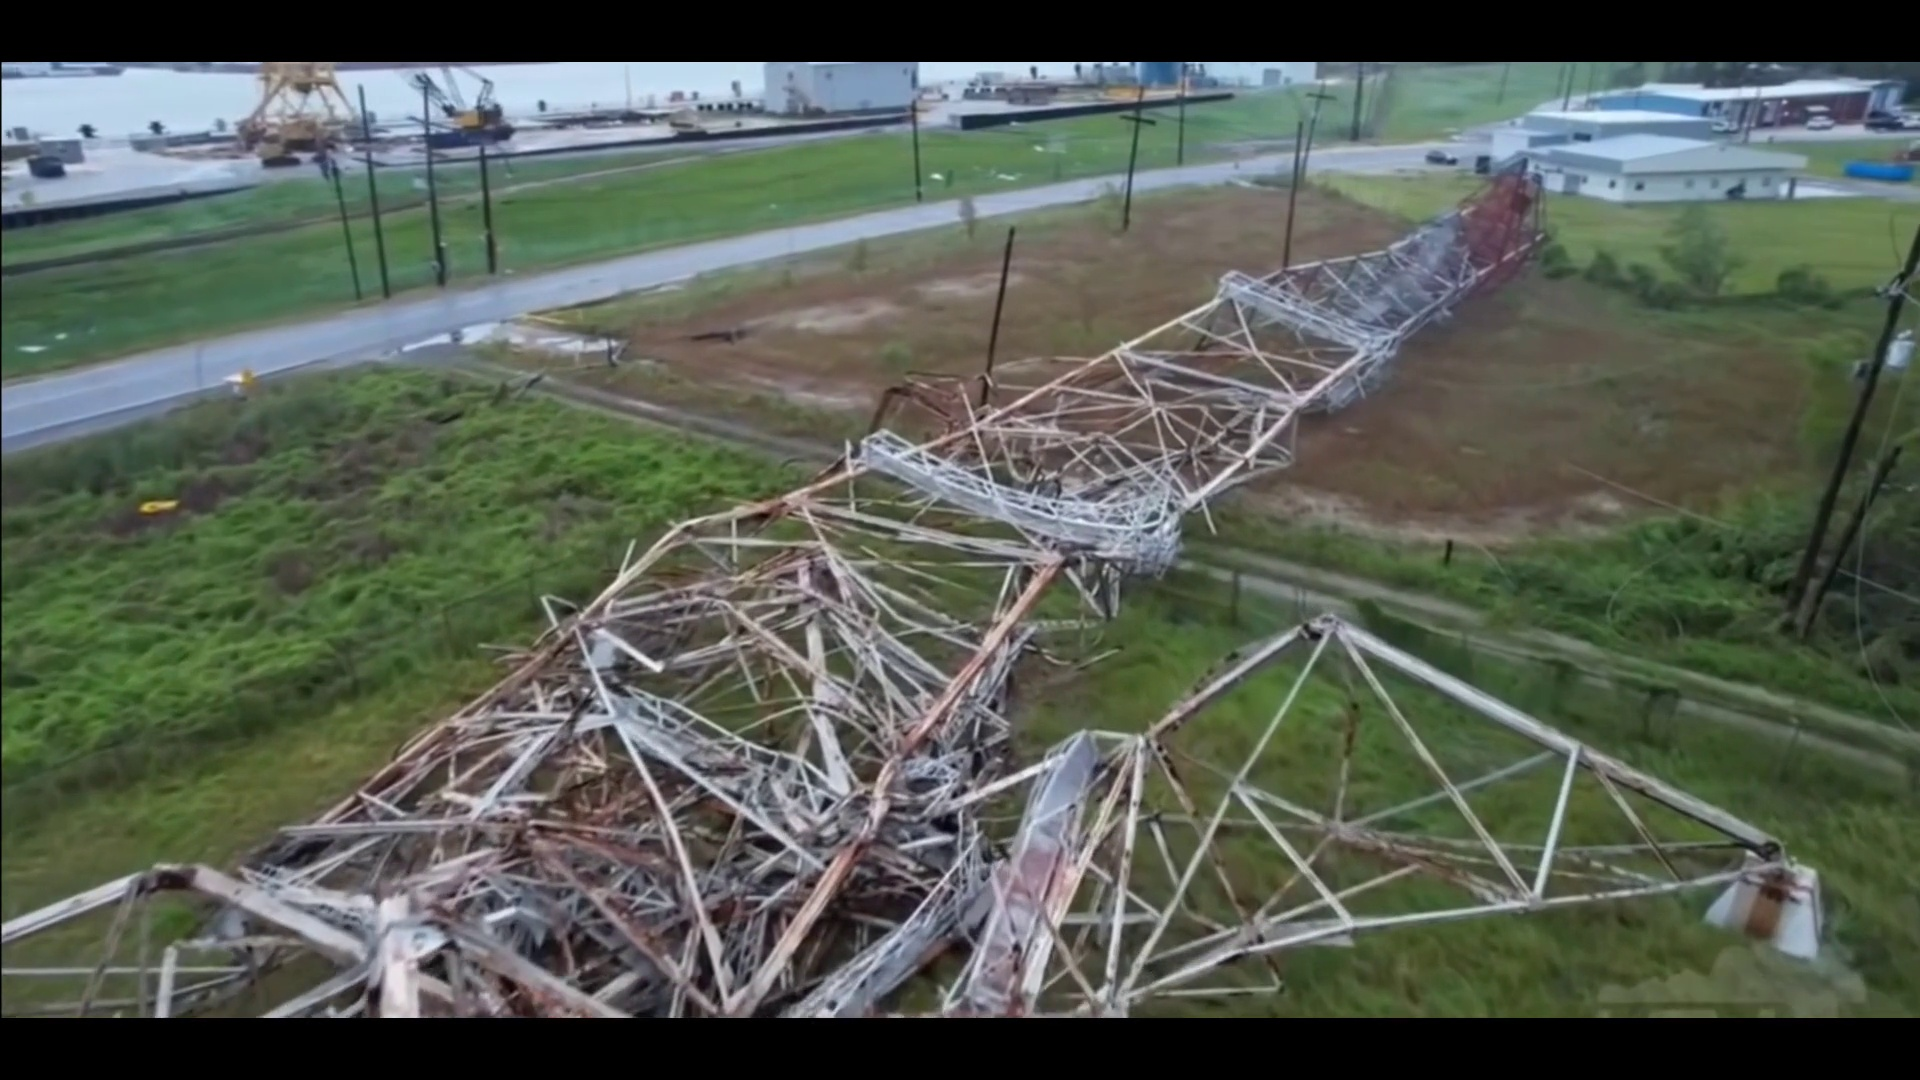tower_down: (167, 153, 1817, 1029)
